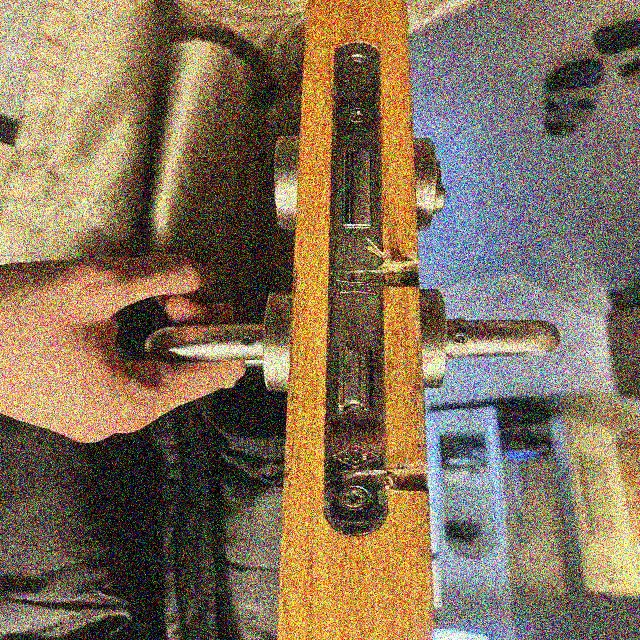phillips: (346, 109, 369, 123)
pozidriv: (340, 487, 368, 508), (347, 57, 367, 67)
